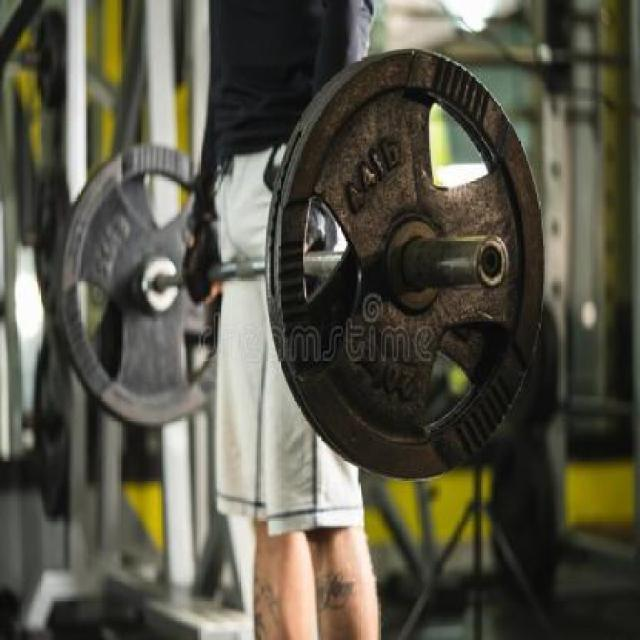barbell: (271, 46, 550, 479)
